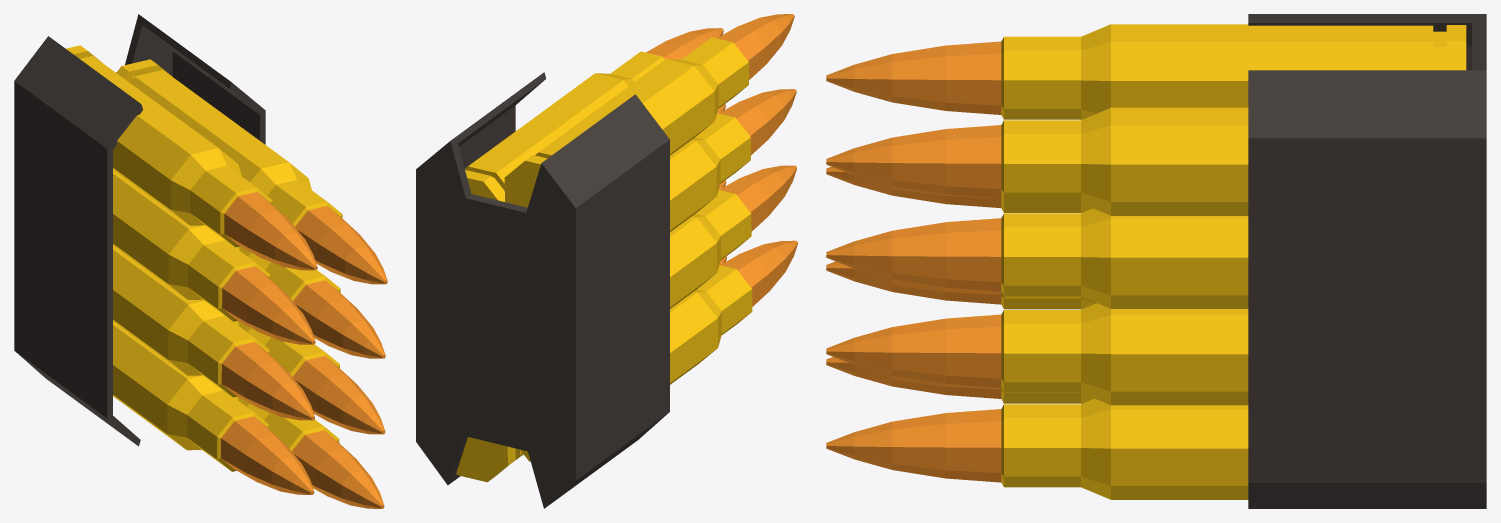
Rendered from M1Garand_Gun.glb.
3 views of the same model, side by side, from view 1: azimuth 30°, elevation 25°; view 2: azimuth 150°, elevation 25°; view 3: azimuth 270°, elevation 25° (orthographic). The views are drawn at different scales.
Visible parts, largest first — view 1: GarandClip; view 2: GarandClip; view 3: GarandClip.
Part boxes in pixels (x1,y1,x2,y2): GarandClip: [14, 14, 387, 508]; GarandClip: [416, 14, 797, 508]; GarandClip: [826, 14, 1486, 508].
Size of the model in its own units: 0.028 by 0.0578 by 0.0791.
1 material, 1 textured.
